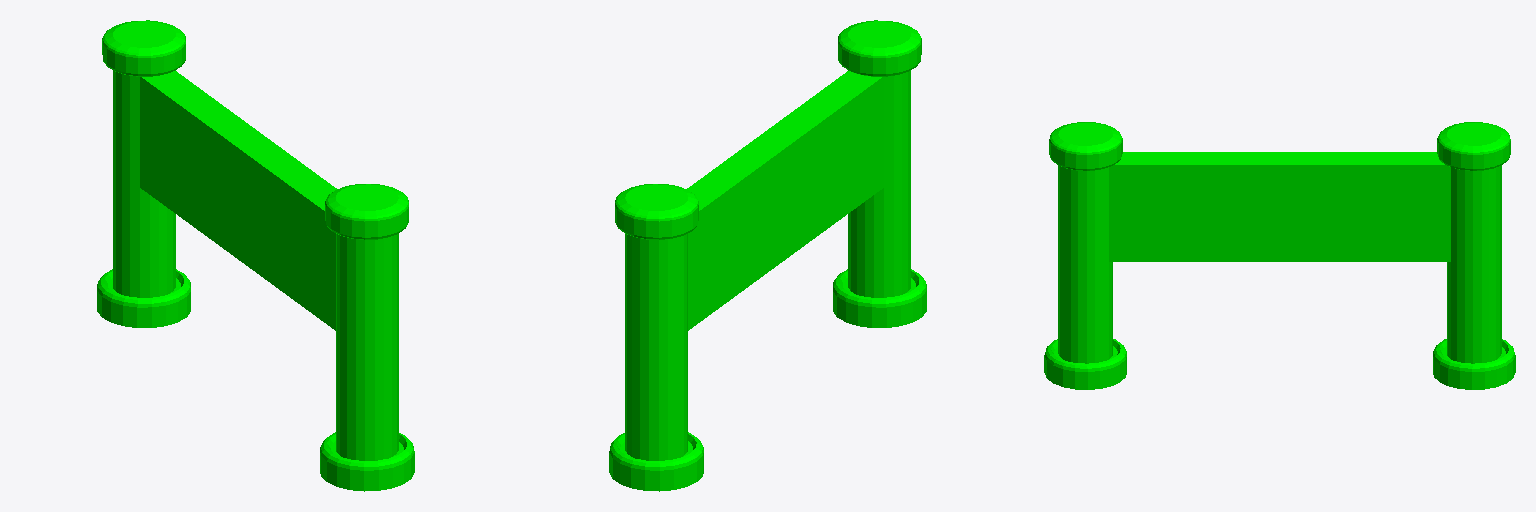
The robot description file, URDF, robot "bar":
<?xml version="1.0"?>
<robot name="bar">
  <link name="base">
   <contact>
      <lateral_friction value="1.0"/>
      <rolling_friction value="0.0"/>
      <contact_cfm value="0.0"/>
      <contact_erp value="1.0"/>
    </contact>
    <inertial>
      <origin rpy="0 0 0" xyz="0 0 0"/>
       <mass value="0.1"/>
       <inertia ixx="1" ixy="0" ixz="0" iyy="1" iyz="0" izz="1"/>
    </inertial>
    <visual>
      <geometry>
        <mesh filename="OBJ/bar.obj" scale="1 1 1"/>
      </geometry>
      <origin rpy="0 0 0" xyz="0 0 0" />
      <material name="green"/>
    </visual>
    <collision>
      <origin rpy="0 0 0" xyz="0 0 0"/>
      <geometry>
         <mesh filename="OBJ/bar.obj" scale="1 1 1"/>
      </geometry>
    </collision>
  </link>

<material name="red"><color rgba="0.99 0 0 1"/></material>
<material name="orange"><color rgba="1 0.5 0 1"/></material>
<material name="yellow"><color rgba="0.95 0.95 0 1"/></material>
<material name="green"><color rgba="0 0.99 0 1"/></material>
<material name="skyblue"><color rgba="0.53 0.81 0.92 1"/></material>
<material name="blue"><color rgba="0 0 0.99 1"/></material>
<material name="purple"><color rgba="0.95 0 0.95 1"/></material>



</robot>

--- Render facts (derived) ---
The picture shows the robot from 3 angles, left to right: view 1: azimuth 30°, elevation 25°; view 2: azimuth 150°, elevation 25°; view 3: azimuth 270°, elevation 25°; orthographic projection.
Model bar with 1 links and 0 joints (none), rooted at base, posed all joints at 0.
Links seen in each view (by area): view 1: base; view 2: base; view 3: base.
Link boxes in pixels (<box>): base: <box>97,20,414,491</box>; base: <box>609,20,926,491</box>; base: <box>1044,122,1515,389</box>.
Size in the robot's own frame: 0.0247 by 0.1403 by 0.0784 metres.
1 mesh visuals loaded from 1 distinct referenced files (1 OBJ).